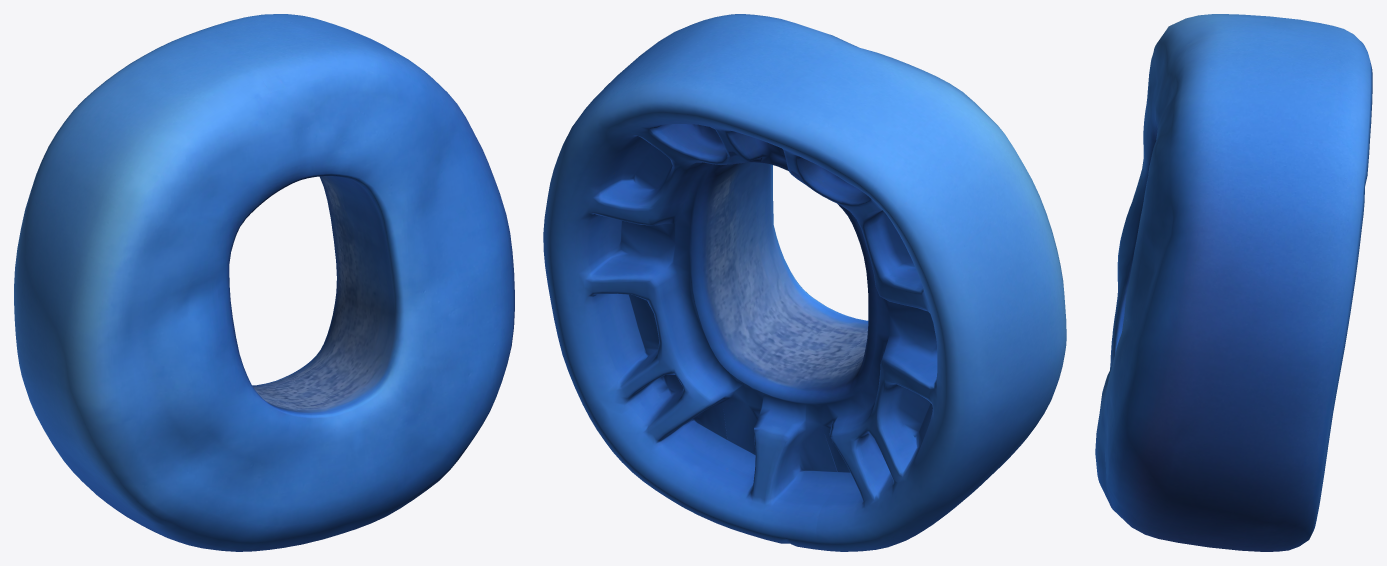
Rendered from Stack 0B - O.glb.
The picture shows the model from 3 angles, left to right: view 1: azimuth 30°, elevation 25°; view 2: azimuth 150°, elevation 25°; view 3: azimuth 270°, elevation 25°; orthographic projection. The views are drawn at different scales.
Parts seen in each view (by area): view 1: O; view 2: O; view 3: O.
Part boxes in pixels (x1,y1,x2,y2): O: [14, 14, 514, 551]; O: [543, 14, 1066, 551]; O: [1095, 14, 1372, 551].
Size of the model in its own units: 0.9854 by 1 by 0.5259.
1 material, 1 textured.
